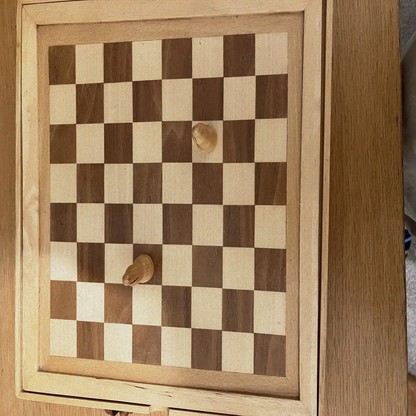bishop_white: (122, 255, 154, 286), (193, 123, 218, 154)
